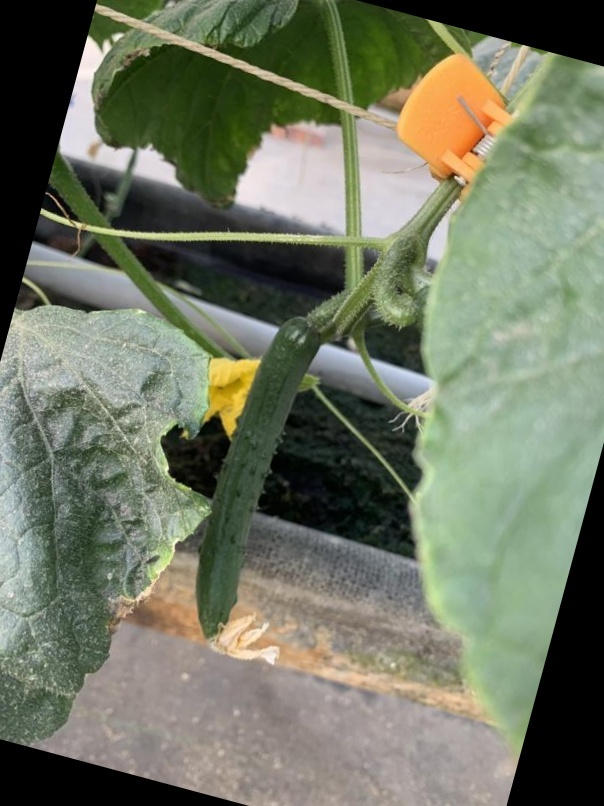mature: (183, 320, 316, 670)
